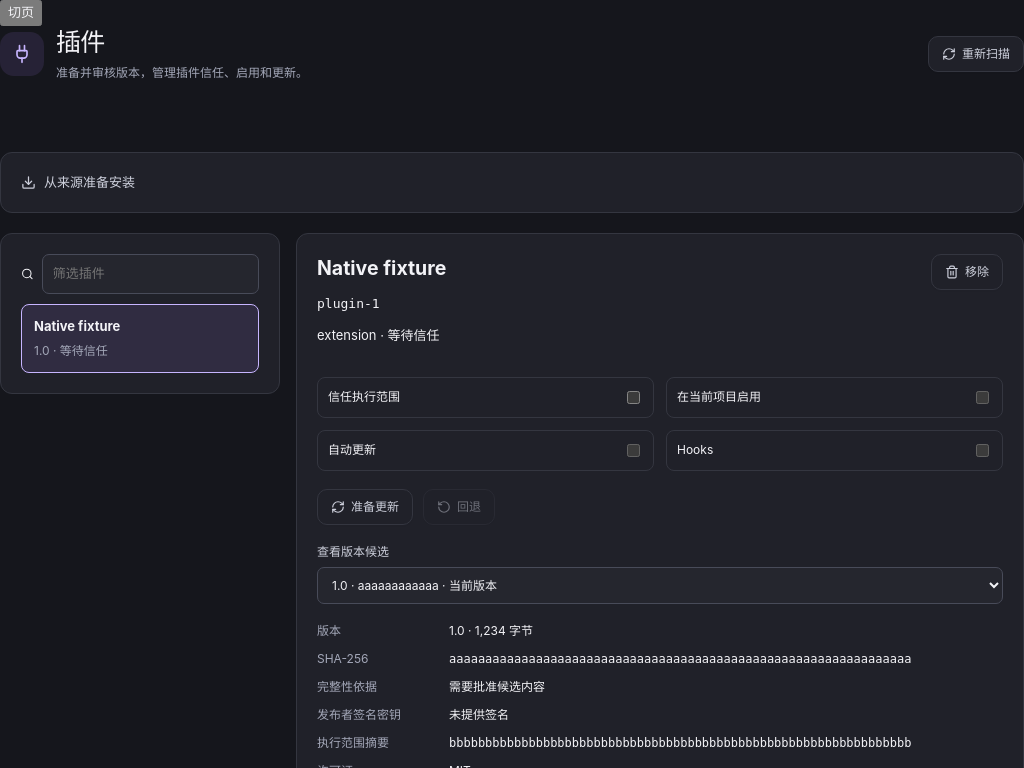
Test: shows native identity and requires a separate exact-profile trust confirmation
expect the heading "Native fixture" is shown: met, box [317,254,446,284]
Click the checkbox labelled "信任执行范围": [634, 397] box [627,391,640,404]
(page scrolled)
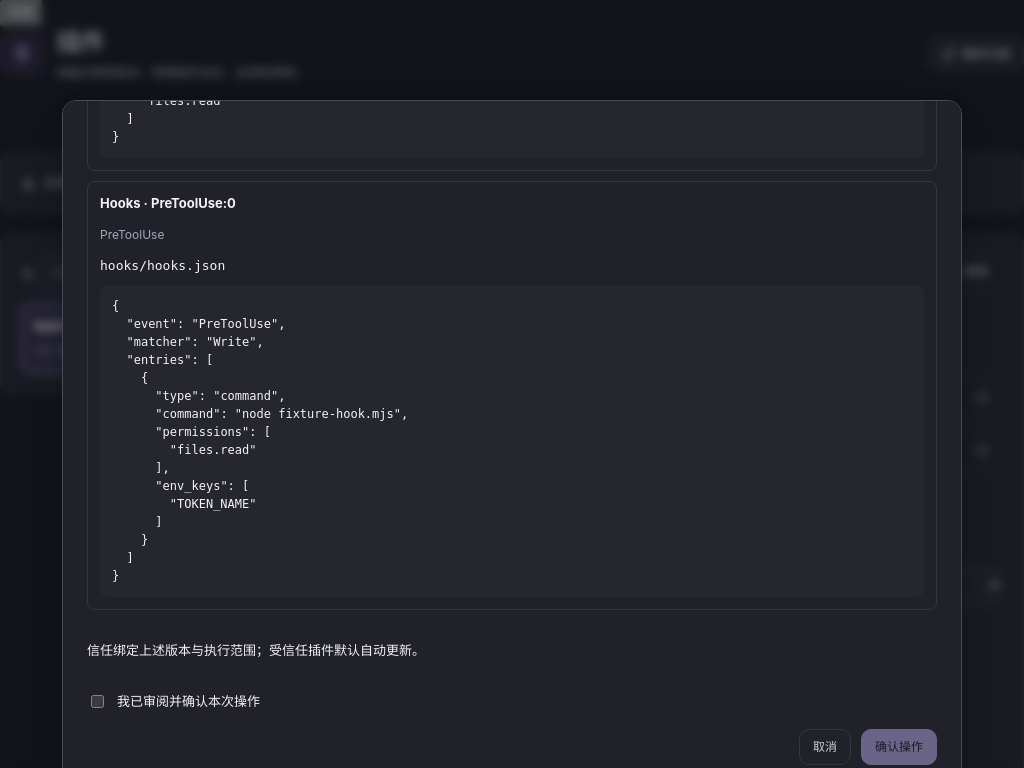
expect the button "确认操作" is disabled: met, box [861,729,937,765]
Click the checkbox labelled "我已审阅并确认本次操作": [98, 701] box [91,695,104,708]
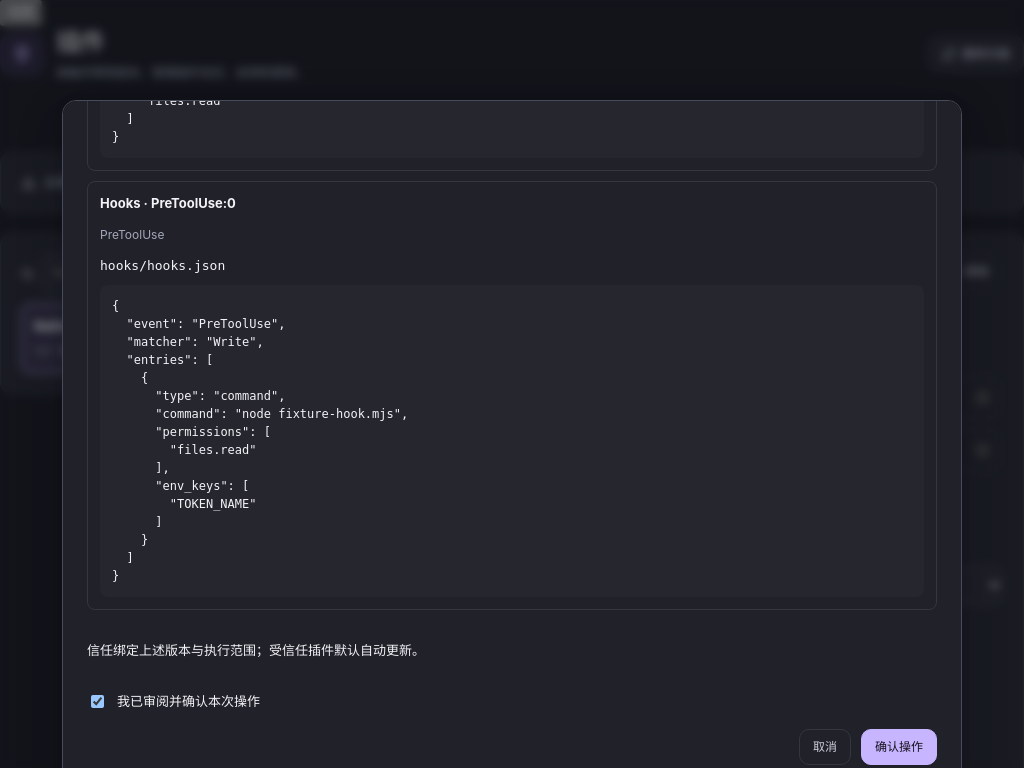
Click the button "确认操作": [899, 747] box [861,729,937,765]
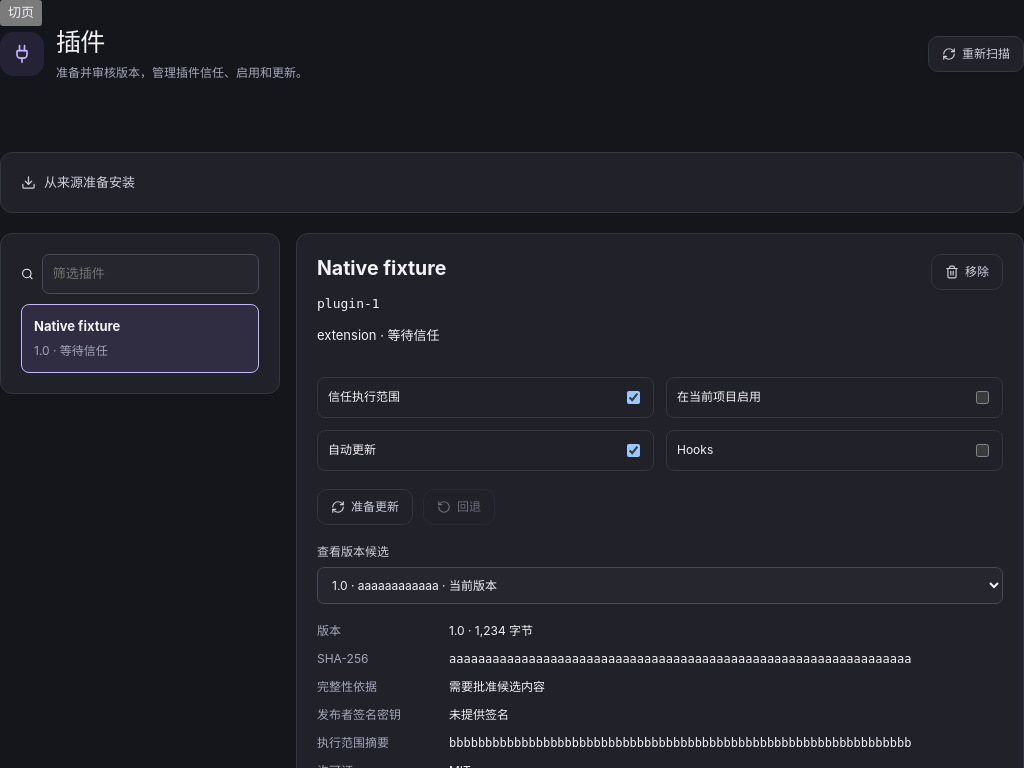
expect the checkbox labelled "在当前项目启用" is not checked: met, box [976,391,989,404]
expect the checkbox labelled "信任执行范围" is checked: met, box [627,391,640,404]
